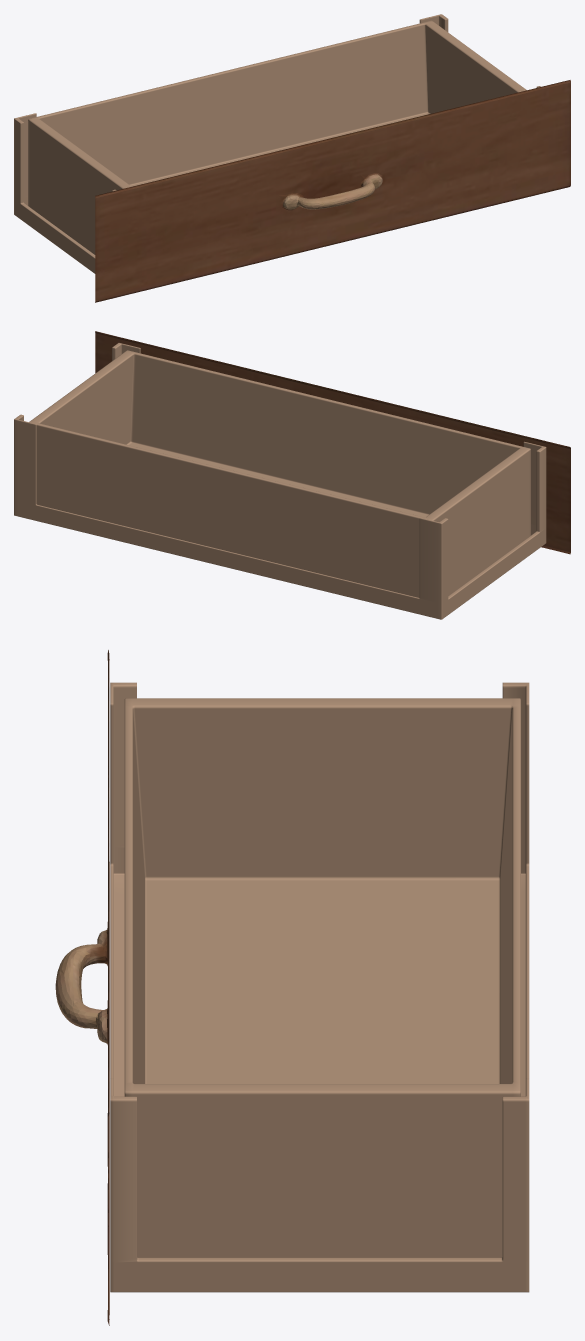
Rendered from drawer_3.glb.
3 renders of one model, top to bottom at view 1: azimuth 30°, elevation 25°; view 2: azimuth 150°, elevation 25°; view 3: azimuth 270°, elevation 25°, orthographic. The views are drawn at different scales.
Parts seen in each view (by area): view 1: source_front_cap_0, prefab_drawer_body_3; view 2: prefab_drawer_body_3, source_front_cap_0; view 3: prefab_drawer_body_3, source_front_cap_0.
Part boxes in pixels (x1,y1,x2,y2): source_front_cap_0: (95,80,570,302); prefab_drawer_body_3: (14,14,540,273); prefab_drawer_body_3: (14,343,546,619); source_front_cap_0: (95,331,570,554); prefab_drawer_body_3: (110,682,529,1292); source_front_cap_0: (55,650,109,1325).
Size of the model in its own units: 0.9168 by 0.1974 by 0.3956.
2 materials, 1 textured.
